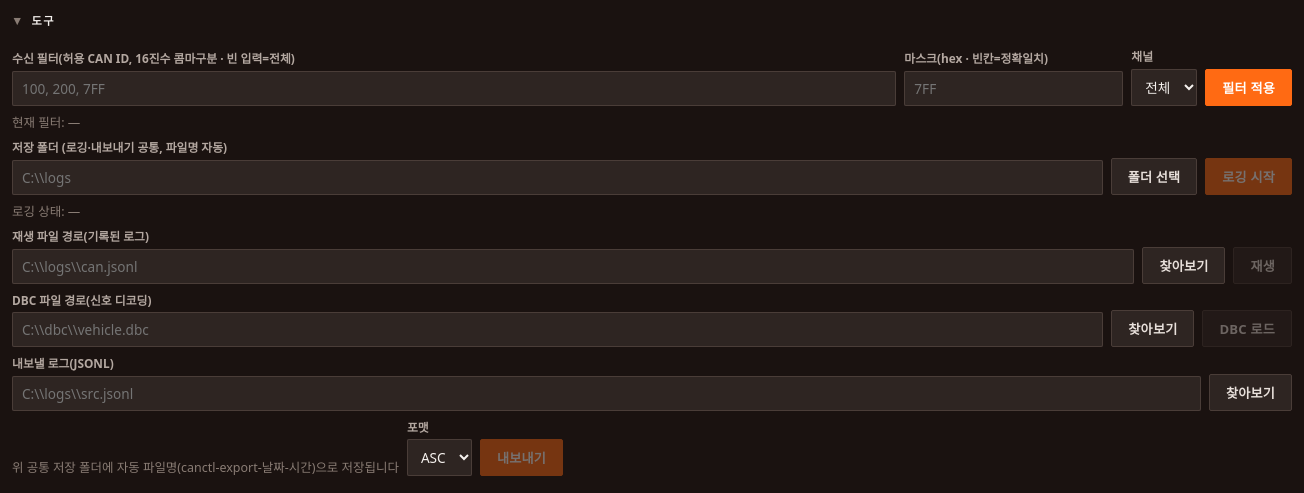
Test case: ToolsPanel › 찾아보기(파일)·폴더 선택 다이얼로그 경로를 입력에 채운다
Click the 2nd button "찾아보기".
click(1153, 329)  # box [1111,310,1194,347]
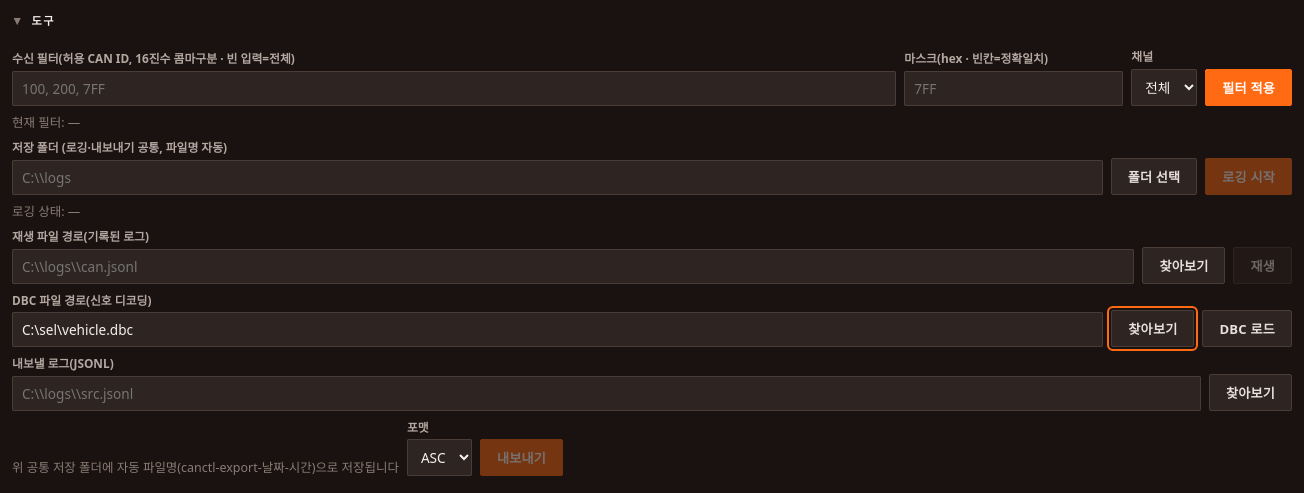
Result: the field showing "C:\\sel\\vehicle.dbc" is shown at [12,312,1103,347]
Click the button "폴더 선택".
click(1154, 176)  # box [1111,158,1197,195]
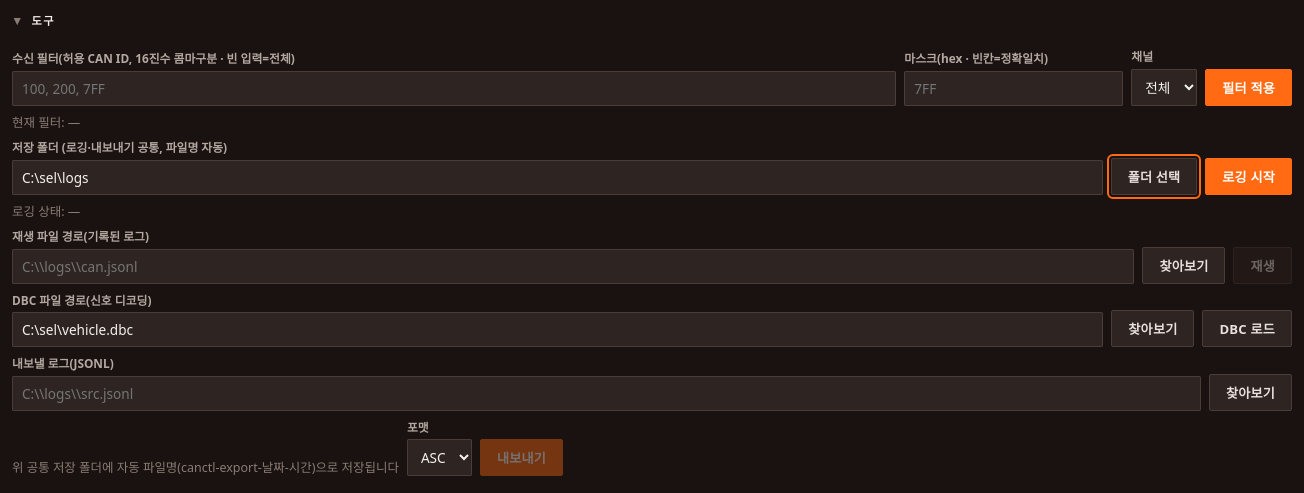
Result: the field showing "C:\\sel\\logs" is shown at [12,160,1103,195]
